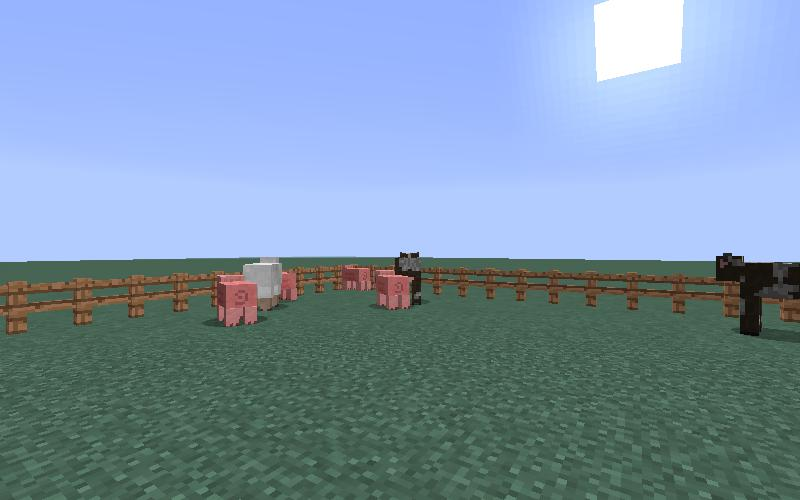cow: (710, 246, 800, 339), (395, 252, 422, 305)
pig: (209, 269, 263, 334), (374, 269, 411, 318), (331, 258, 374, 300)
sheep: (241, 257, 283, 311)
